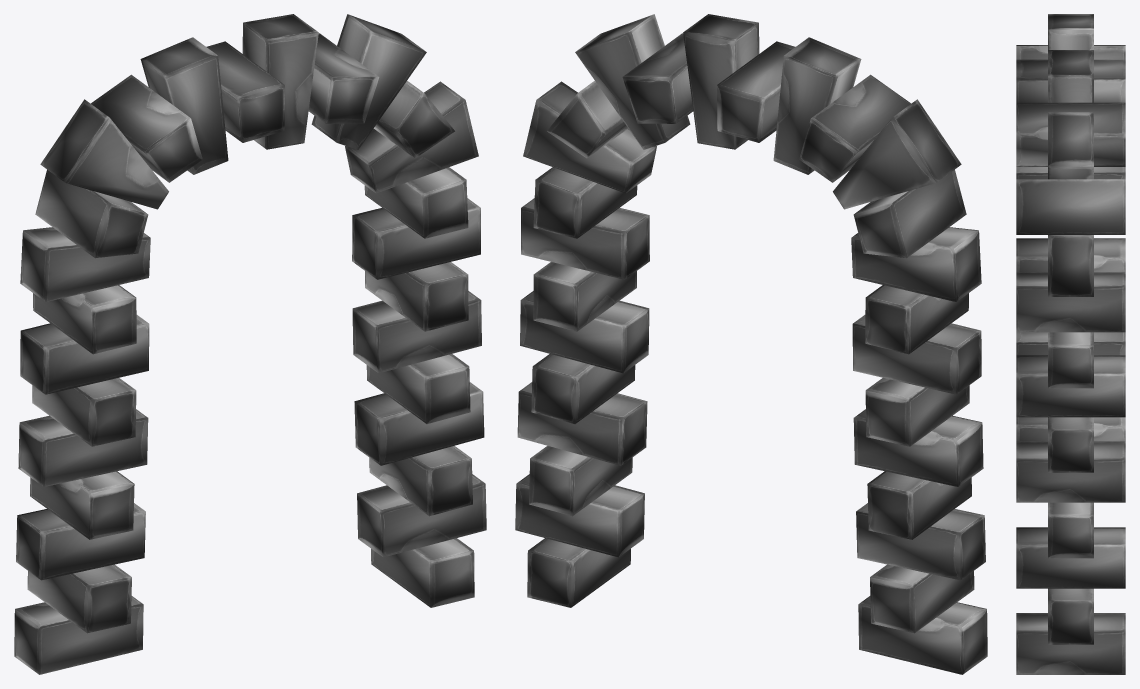
File: arch_1.fbx
3 views of the same model, side by side, from view 1: azimuth 30°, elevation 25°; view 2: azimuth 150°, elevation 25°; view 3: azimuth 270°, elevation 25° (orthographic). The views are drawn at different scales.
Parts seen in each view (by area): view 1: arch_1; view 2: arch_1; view 3: arch_1.
Part boxes in pixels (<box>): arch_1: <box>14,14,486,674</box>; arch_1: <box>515,14,987,674</box>; arch_1: <box>1016,14,1125,674</box>.
Bounding box in the file's own units: 4.67 × 5.89 × 1.08.
